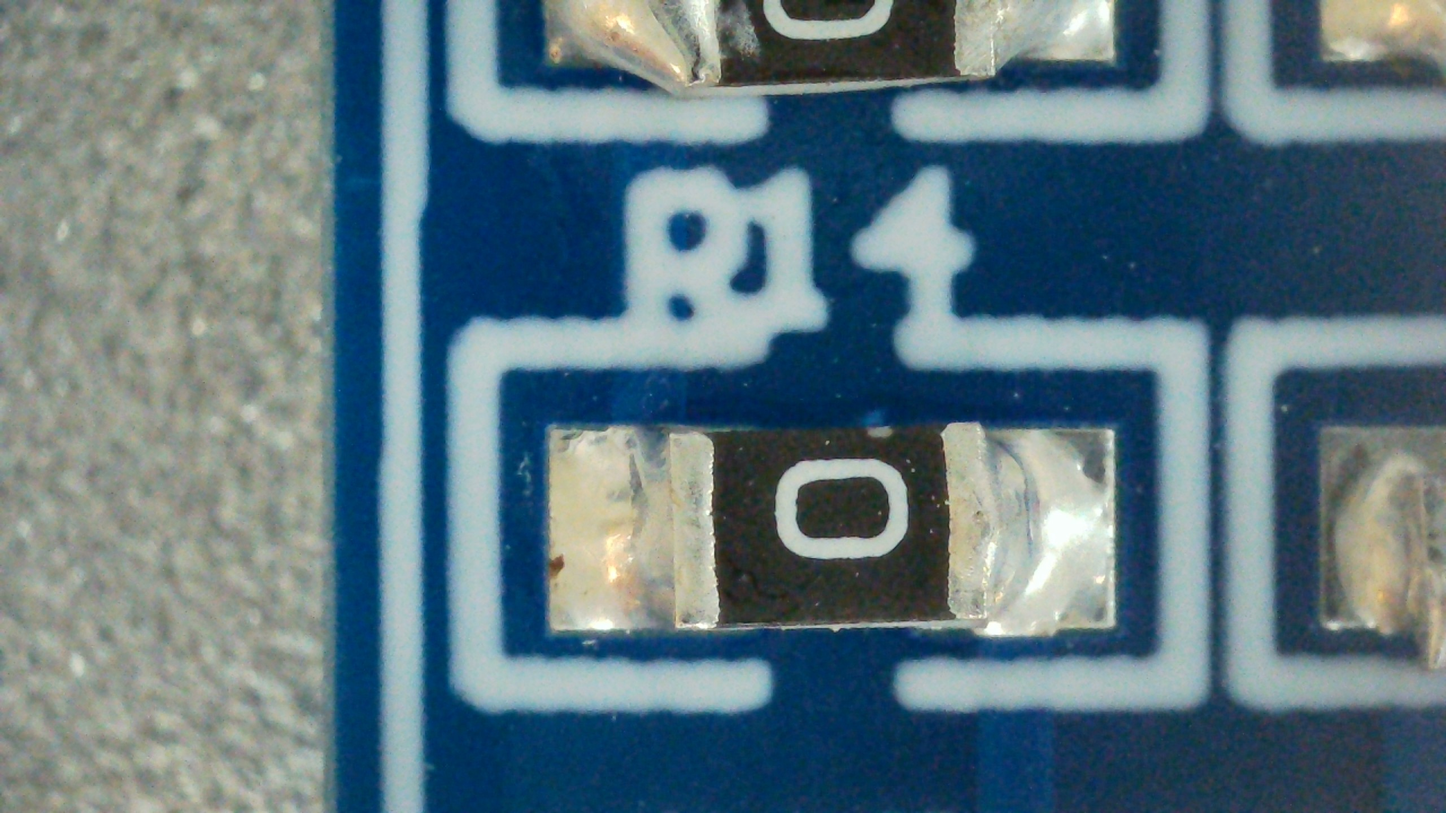OK: (551, 426, 1115, 629)
